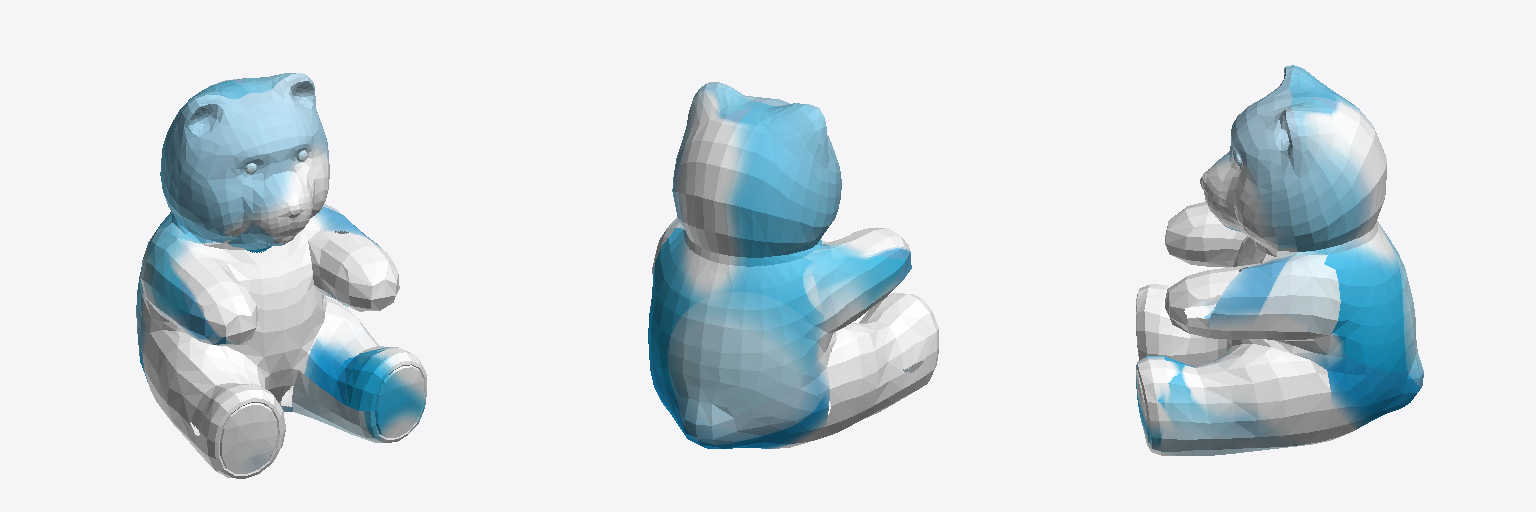
3 views of the same model, side by side, from view 1: azimuth 30°, elevation 25°; view 2: azimuth 150°, elevation 25°; view 3: azimuth 270°, elevation 25° (orthographic).
Parts seen in each view (by area): view 1: Bear_Plane; view 2: Bear_Plane; view 3: Bear_Plane.
Boxes of the visible parts, box(x1,y1,x2,y2) form: Bear_Plane: box(136, 73, 426, 478); Bear_Plane: box(648, 82, 938, 448); Bear_Plane: box(1136, 65, 1423, 455).
Bounding box in the file's own units: 0.715 × 1.04 × 0.8185.
Materials: 1 (1 with a texture image).